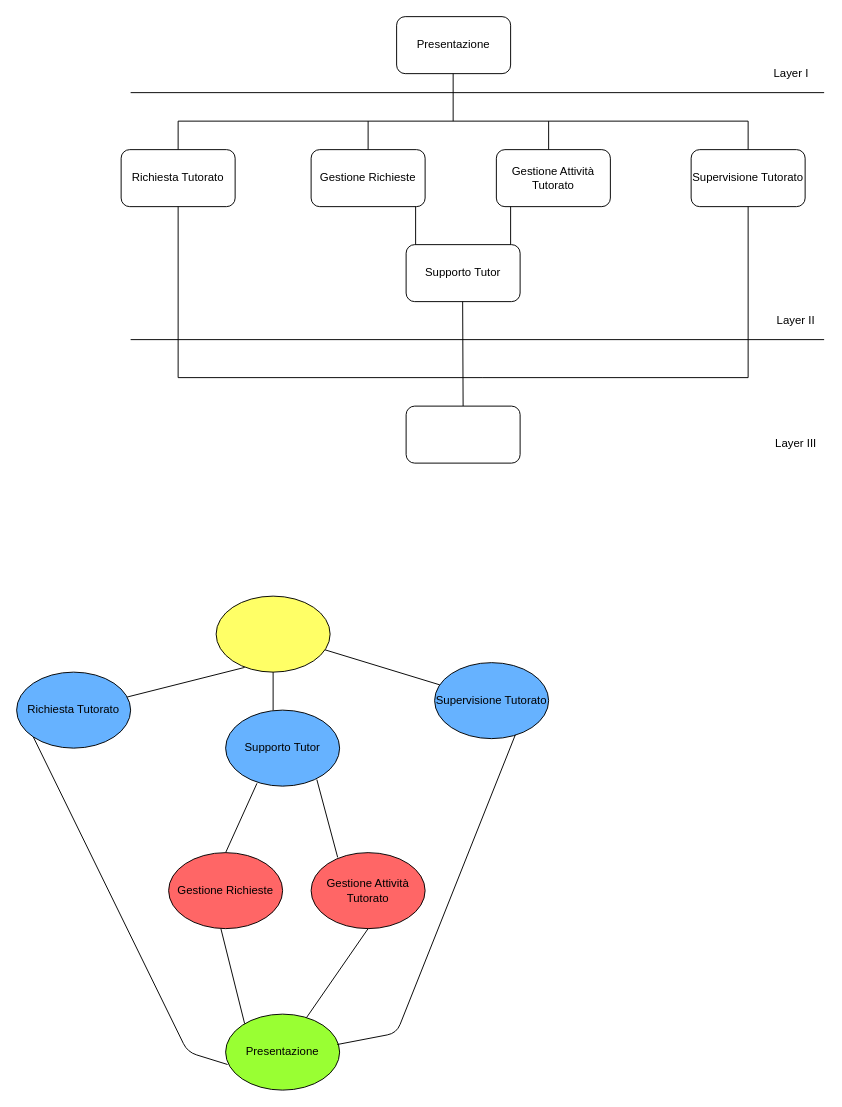
Image size: 842x1107. Some labels were removed from this diagram. The centre of each missing label's shape, as x and y in pixels:
Storage: pixel 272 633
Storager: pixel 462 434
